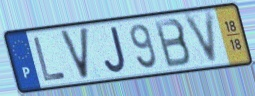9: (128, 22, 159, 71)
B: (152, 17, 193, 70)
J: (103, 25, 128, 75)
L: (31, 35, 69, 84)
V: (180, 8, 220, 69), (57, 25, 91, 82)
